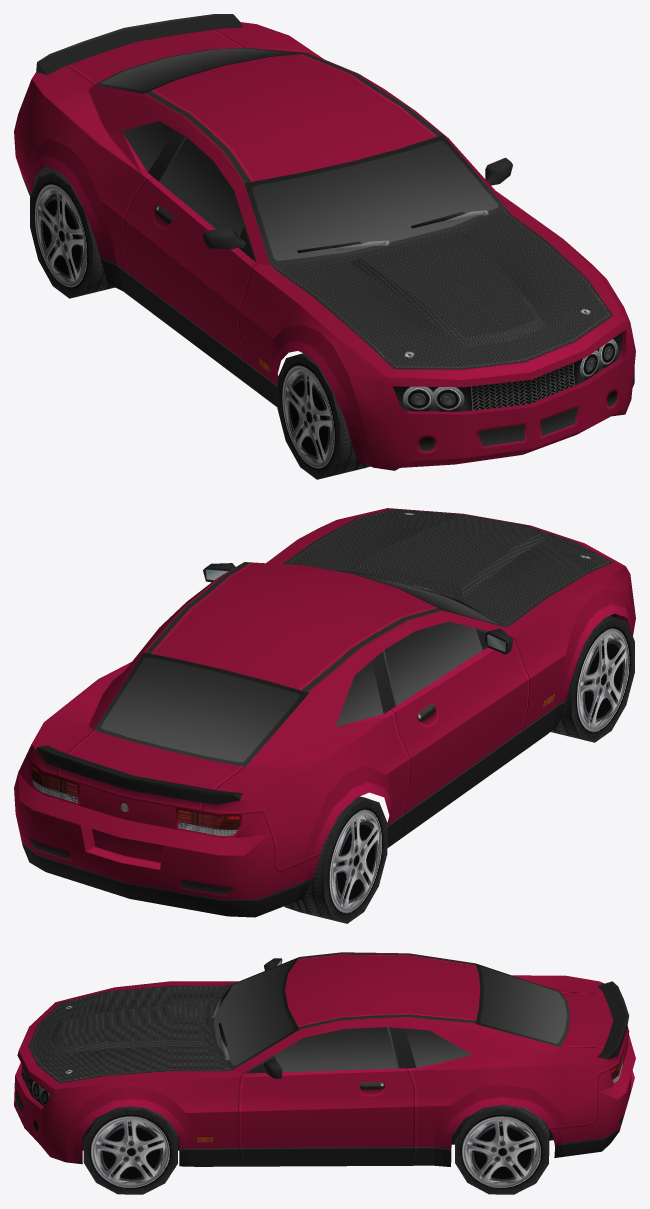
The model's file is Modern_Muscle_Car_LOD1.fbx.
The picture shows the model from 3 angles, top to bottom: view 1: azimuth 30°, elevation 25°; view 2: azimuth 150°, elevation 25°; view 3: azimuth 270°, elevation 25°; orthographic projection. The views are drawn at different scales.
Parts seen in each view (by area): view 1: Chassis, RF_Wheel, RR_Wheel; view 2: Chassis, RR_Wheel, RF_Wheel; view 3: Chassis, LR_Wheel, LF_Wheel.
Part boxes in pixels (x1,y1,x2,y2): Chassis: [14, 14, 635, 470]; RF_Wheel: [277, 353, 370, 479]; RR_Wheel: [30, 171, 114, 298]; Chassis: [14, 508, 635, 917]; RR_Wheel: [284, 796, 387, 923]; RF_Wheel: [551, 616, 634, 742]; Chassis: [14, 952, 635, 1166]; LR_Wheel: [455, 1105, 549, 1194]; LF_Wheel: [83, 1106, 178, 1194].
Bounding box in the file's own units: 2.32 × 1.56 × 5.47.
2 materials, 2 textured.
